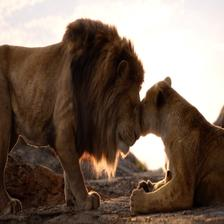Lion: (0, 20, 142, 201), (136, 64, 224, 212)
